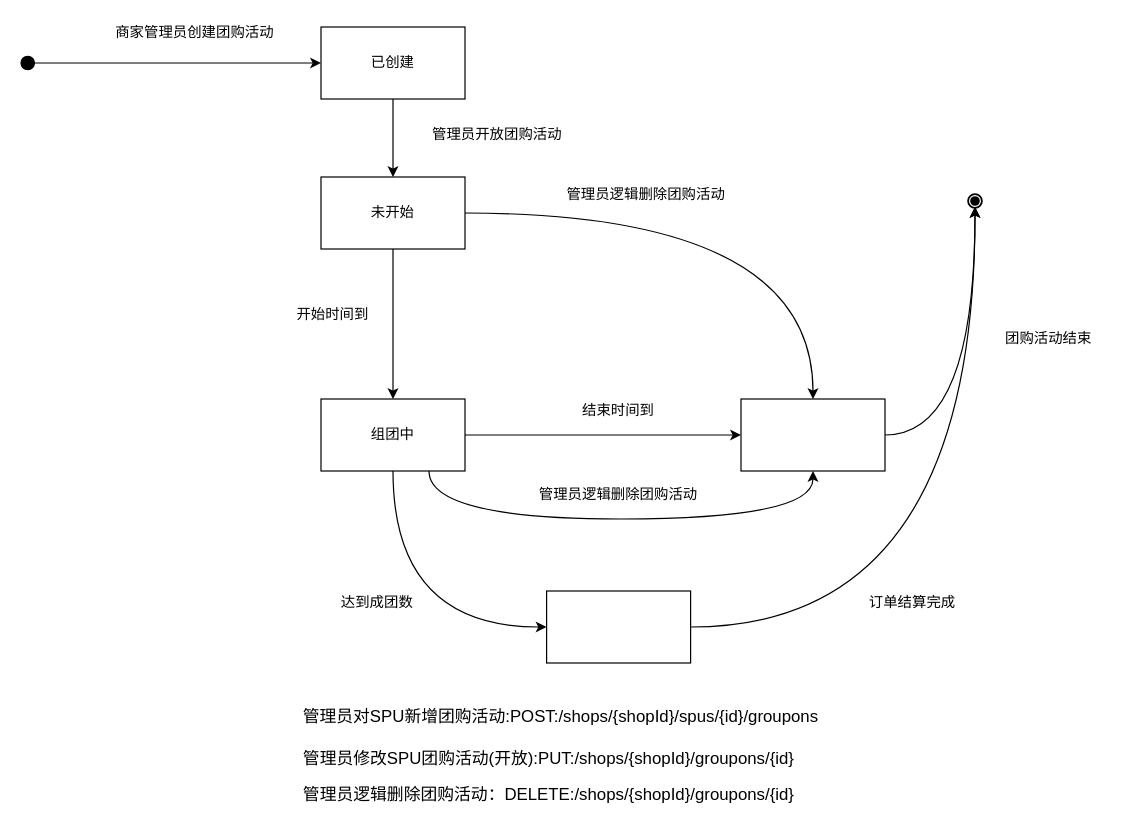
The diagram is 1126 pixels wide and 827 high, and some of its shapes have lost their labels. The centre of each missing label's shape, as x and y in pixels:
"已关闭" belongs at [812,434].
"已成团" belongs at [618,626].
